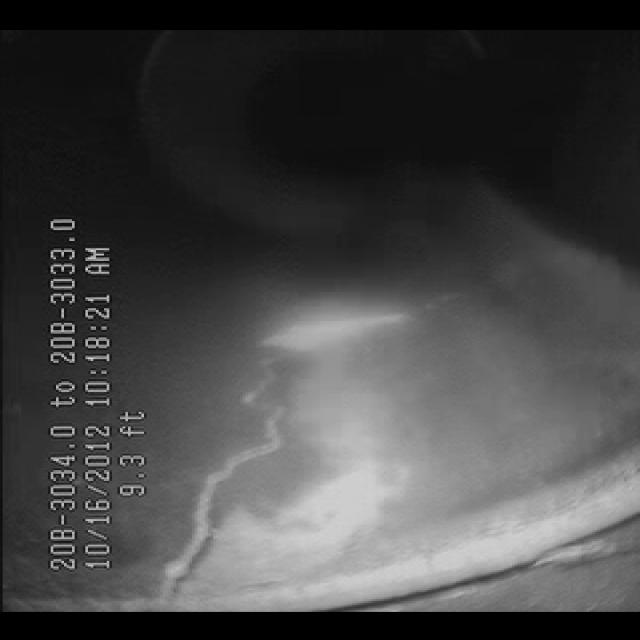Crack: (157, 302, 334, 573)
